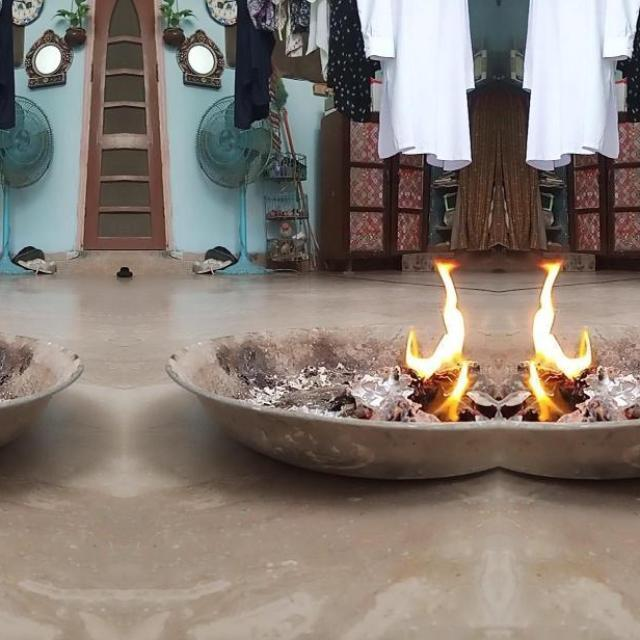smoke: (402, 256, 476, 419), (522, 256, 596, 419)
